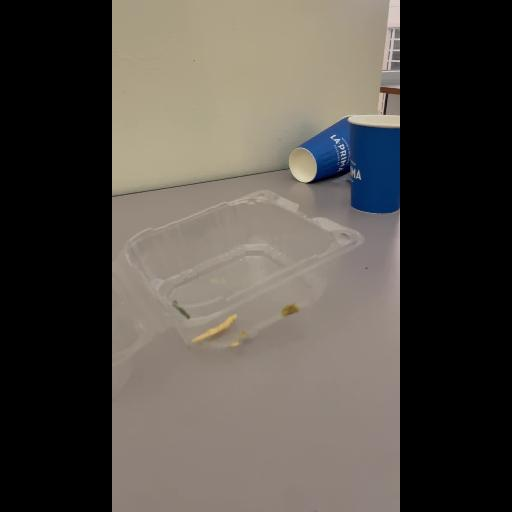lp_paper_cup: (346, 114, 400, 214), (289, 116, 355, 184)
small_plastic_container: (112, 192, 358, 348)
